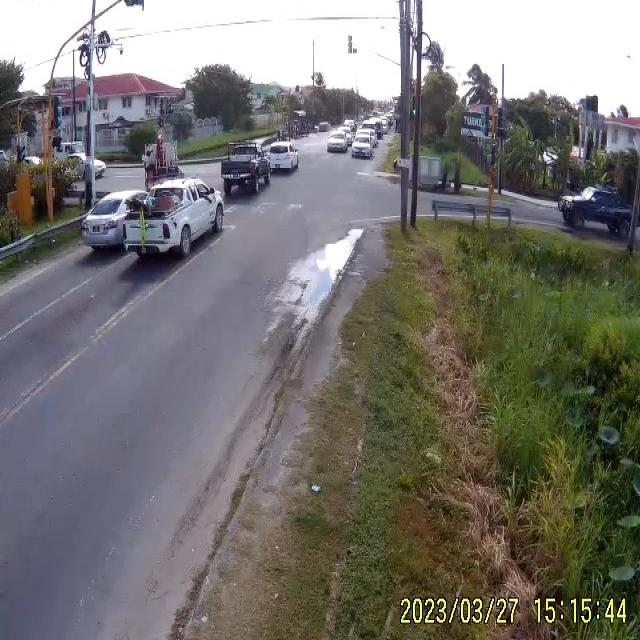car: (124, 184, 225, 259), (80, 192, 146, 250), (561, 188, 631, 235), (221, 143, 272, 196), (266, 144, 300, 174), (326, 132, 349, 156), (353, 136, 375, 159), (315, 121, 329, 132)
